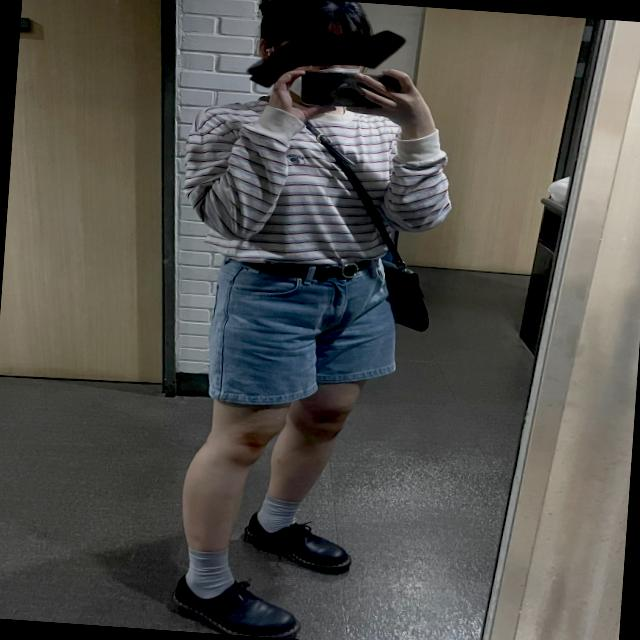longsleeve: (176, 88, 458, 270)
shortpants: (202, 254, 402, 420)
